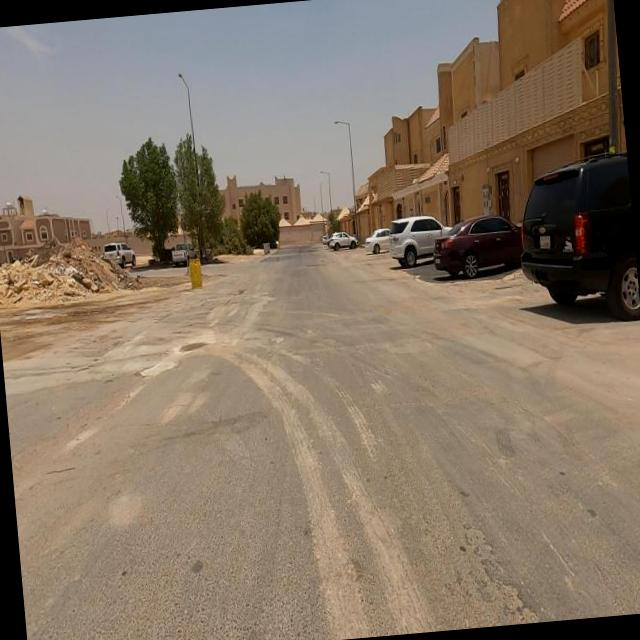debris: (40, 238, 111, 316), (15, 246, 60, 319)
